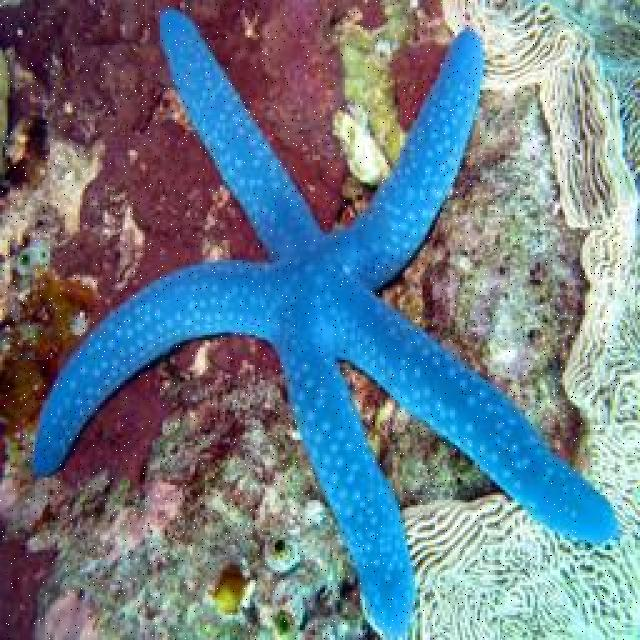reefs: (29, 8, 618, 638)
